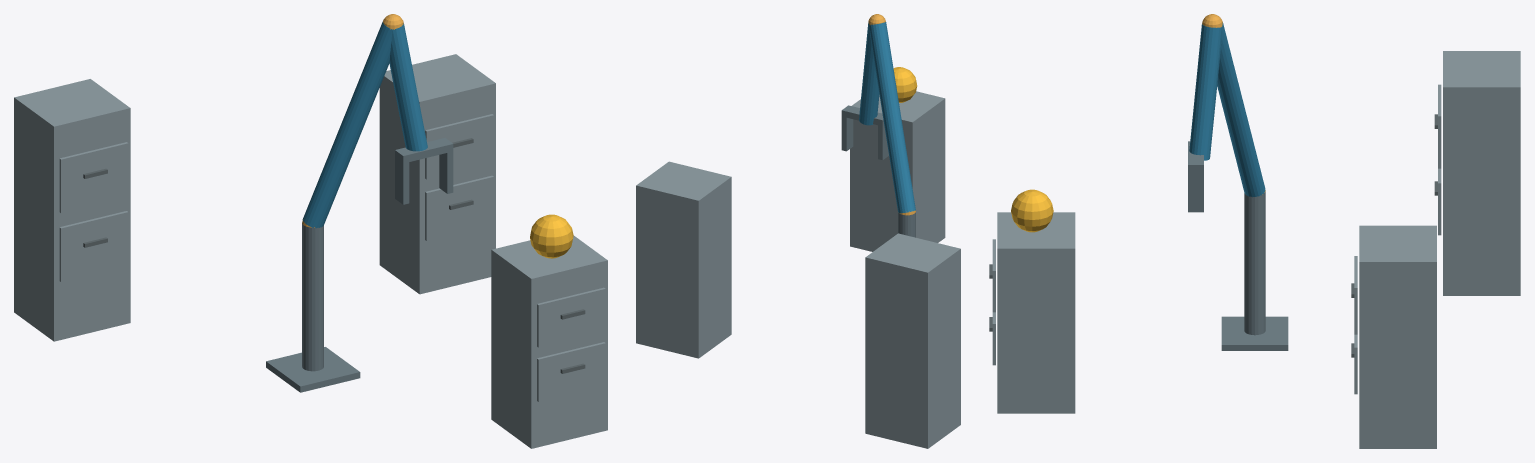
The picture shows the model from 3 angles, left to right: view 1: azimuth 30°, elevation 25°; view 2: azimuth 150°, elevation 25°; view 3: azimuth 270°, elevation 25°; orthographic projection. The views are drawn at different scales.
Visible parts, largest first — view 1: cabinet_3 body, cabinet_1 body, cabinet_2 body, moving link 1, cabinet_3 drawer front, cabinet_3 drawer front.001, cabinet_2 drawer front, fixed post, cabinet_1 drawer front, cabinet_1 drawer front.001, cabinet_2 drawer front.001, moving link 2 (+5 smaller); view 2: cabinet_3 body, cabinet_2 body, cabinet_1 body, moving link 1, moving link 2, ball ball_1, gripper finger 1, fixed post, gripper bridge; view 3: cabinet_3 body, cabinet_2 body, cabinet_1 body, moving link 1, fixed post, moving link 2, pedestal, ball ball_1, gripper finger 1.
Part boxes in pixels (left/top/right/bottom): cabinet_3 body: left=14, top=79, right=130, bottom=341; cabinet_1 body: left=491, top=235, right=607, bottom=448; cabinet_2 body: left=379, top=54, right=495, bottom=294; moving link 1: left=302, top=21, right=392, bottom=228; cabinet_3 drawer front: left=59, top=211, right=128, bottom=281; cabinet_3 drawer front.001: left=59, top=142, right=128, bottom=213; cabinet_2 drawer front: left=425, top=175, right=493, bottom=240; fixed post: left=302, top=222, right=323, bottom=371; cabinet_1 drawer front: left=537, top=342, right=605, bottom=401; cabinet_1 drawer front.001: left=537, top=287, right=605, bottom=347; cabinet_2 drawer front.001: left=425, top=114, right=493, bottom=179; moving link 2: left=389, top=23, right=427, bottom=151; cabinet_3 body: left=865, top=233, right=960, bottom=448; cabinet_2 body: left=636, top=161, right=731, bottom=358; cabinet_1 body: left=850, top=91, right=945, bottom=251; moving link 1: left=869, top=22, right=915, bottom=213; moving link 2: left=859, top=23, right=879, bottom=125; ball ball_1: left=893, top=67, right=917, bottom=102; gripper finger 1: left=841, top=116, right=853, bottom=151; fixed post: left=898, top=212, right=915, bottom=237; gripper bridge: left=841, top=105, right=884, bottom=126; cabinet_3 body: left=1443, top=51, right=1520, bottom=295; cabinet_2 body: left=1359, top=225, right=1436, bottom=448; cabinet_1 body: left=997, top=212, right=1075, bottom=413; moving link 1: left=1217, top=22, right=1265, bottom=197; fixed post: left=1244, top=192, right=1265, bottom=335; moving link 2: left=1189, top=24, right=1221, bottom=160; pedestal: left=1221, top=316, right=1288, bottom=350; ball ball_1: left=1011, top=189, right=1053, bottom=232; gripper finger 1: left=1188, top=172, right=1203, bottom=212.
Size of the model in its own units: 1.67 by 1.44 by 1.98.
